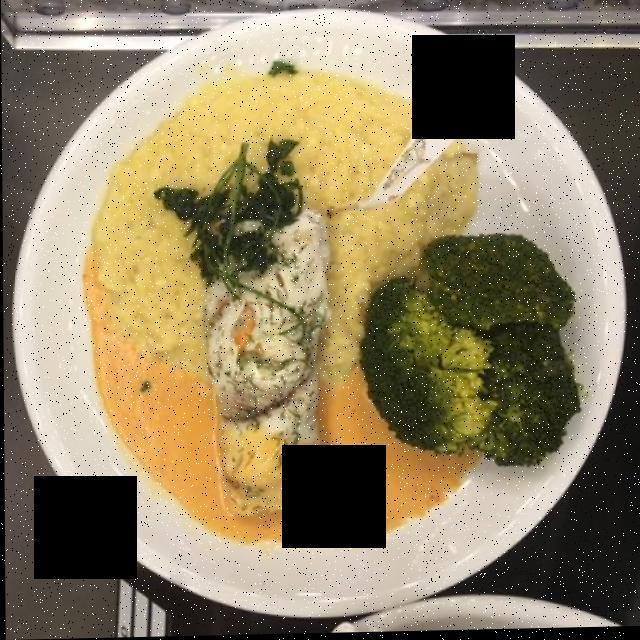broccoli: (354, 221, 573, 457)
fish: (185, 192, 325, 525)
risotto: (94, 95, 476, 372)
sauce: (85, 273, 479, 541)
